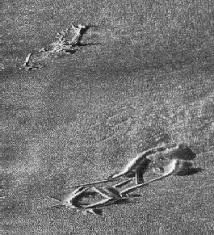ship: (68, 144, 186, 213)
